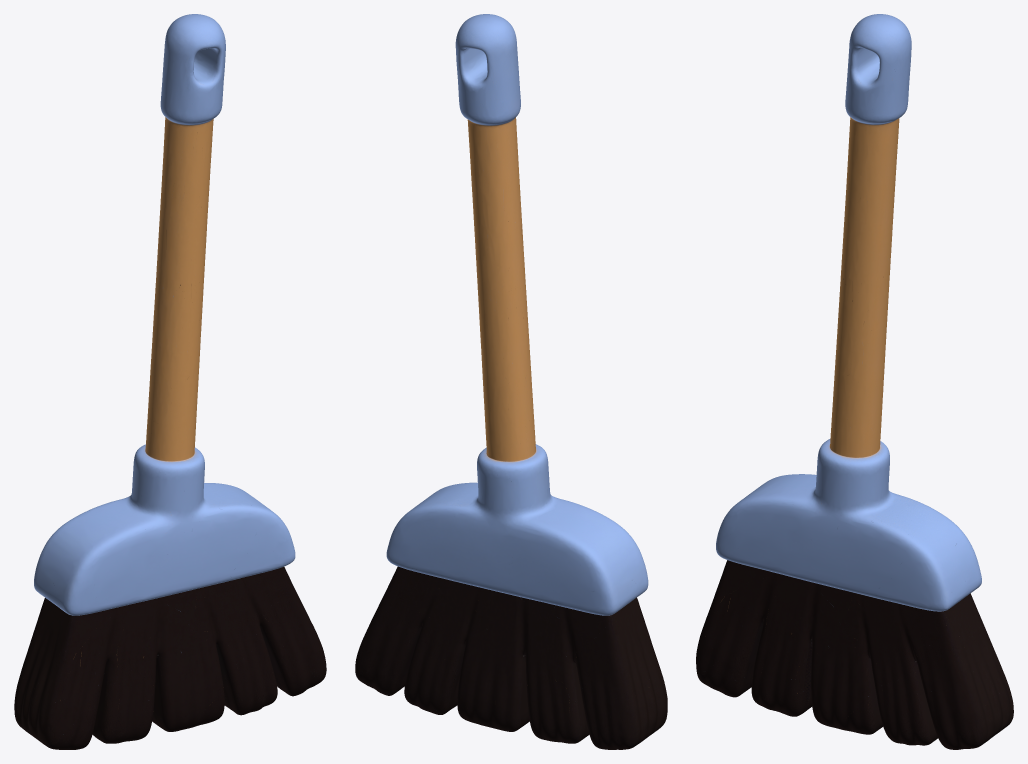
Rendered from Meshy_AI_Blue_Broom_20261030_texture.fbx.
3 views of the same model, side by side, from view 1: azimuth 30°, elevation 25°; view 2: azimuth 150°, elevation 25°; view 3: azimuth 330°, elevation 25° (orthographic).
Parts seen in each view (by area): view 1: Mesh_0; view 2: Mesh_0; view 3: Mesh_0.
Boxes of the visible parts, x1,y1,x2,y2 form: Mesh_0: (14, 14, 326, 749); Mesh_0: (355, 14, 667, 749); Mesh_0: (696, 14, 1013, 749).
Bounding box in the file's own units: 81.53 × 190 × 21.81.
Materials: 1 (1 with a texture image).
